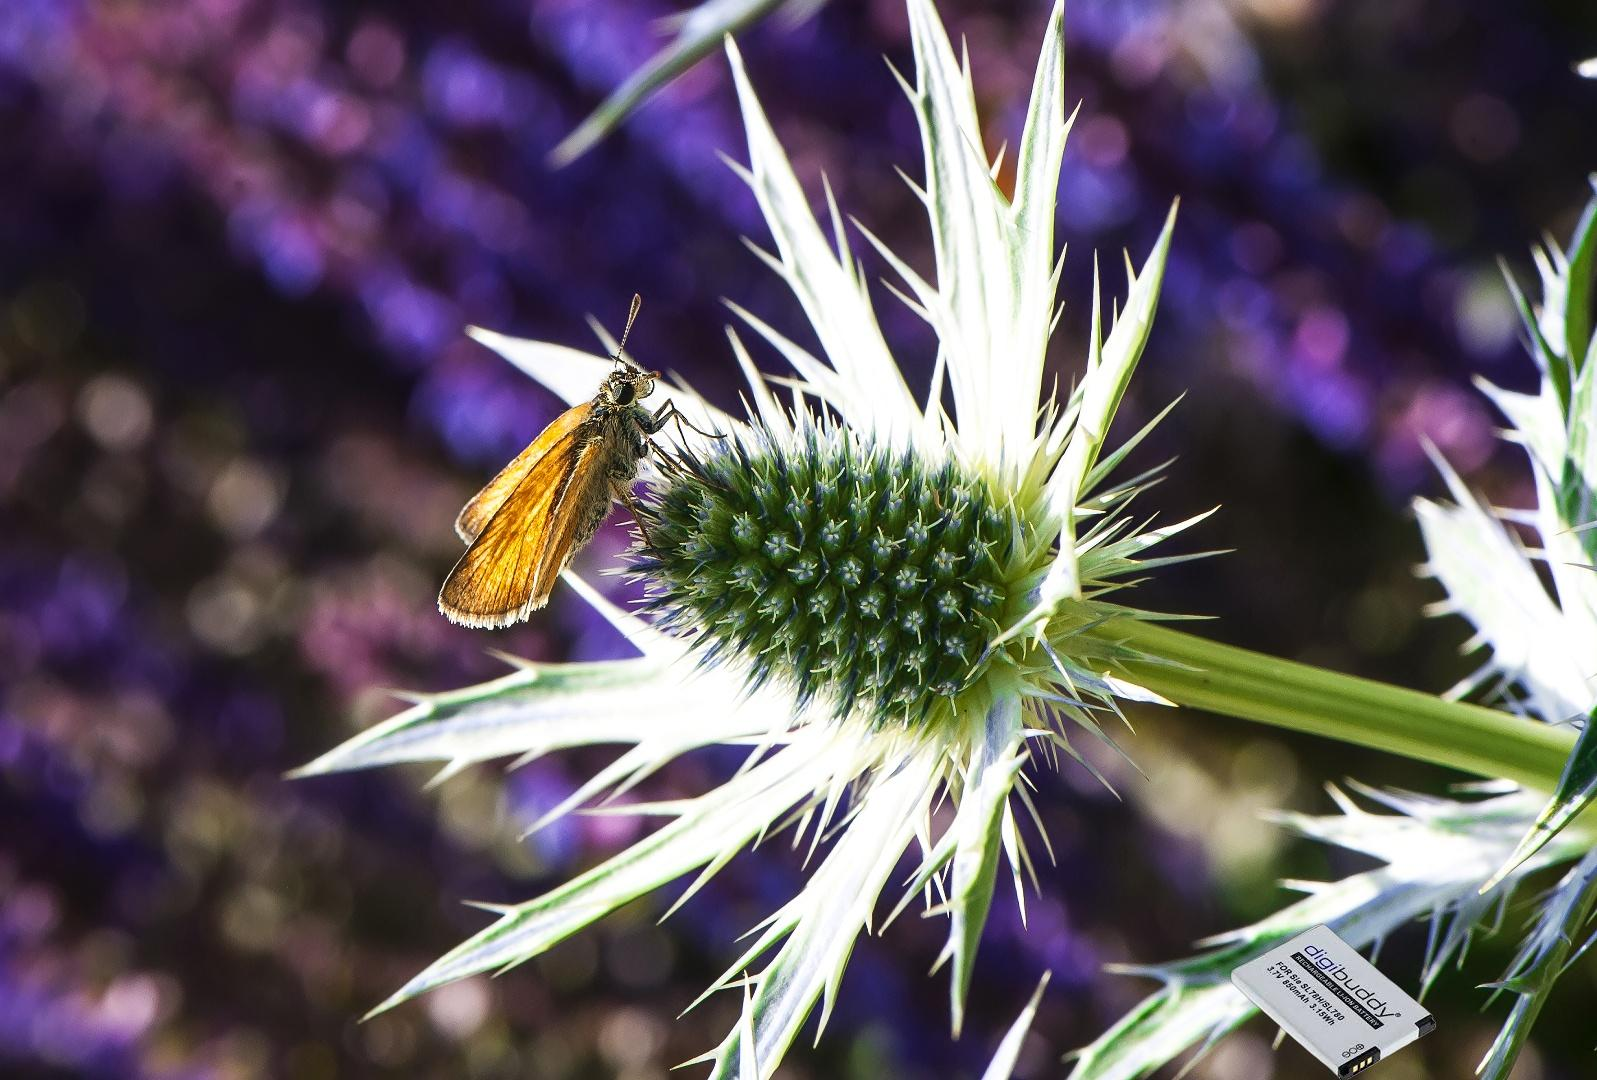battery: (1228, 921, 1439, 1080)
